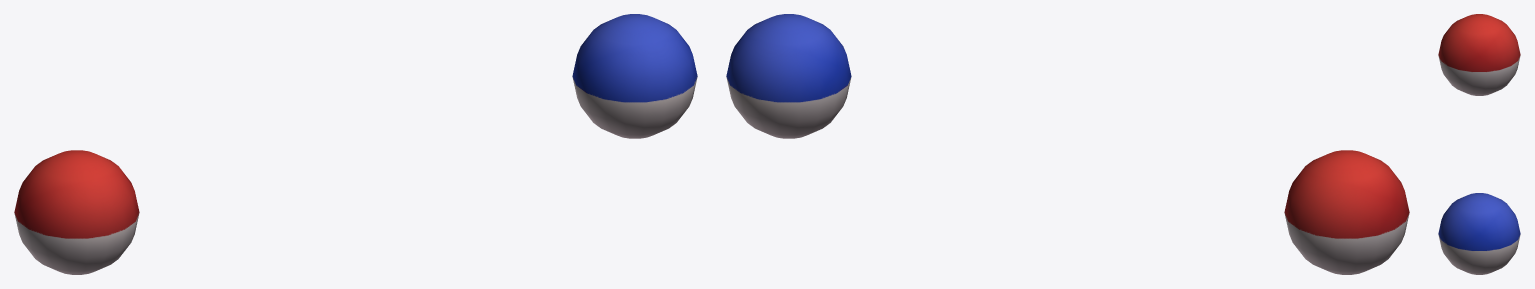
Rendered from ball_asset.fbx.
3 views of the same model, side by side, from view 1: azimuth 30°, elevation 25°; view 2: azimuth 150°, elevation 25°; view 3: azimuth 270°, elevation 25° (orthographic). The views are drawn at different scales.
Visible parts, largest first — view 1: ball1, ball2; view 2: ball1, ball2; view 3: ball1, ball2.
Boxes of the visible parts, x1,y1,x2,y2 form: ball1: (14,150,139,274); ball2: (572,14,697,138); ball1: (1284,150,1409,274); ball2: (726,14,851,138); ball1: (1438,14,1520,95); ball2: (1438,193,1520,274).
Size of the model in its own units: 114 by 18.55 by 18.55.
1 material, 1 textured.
